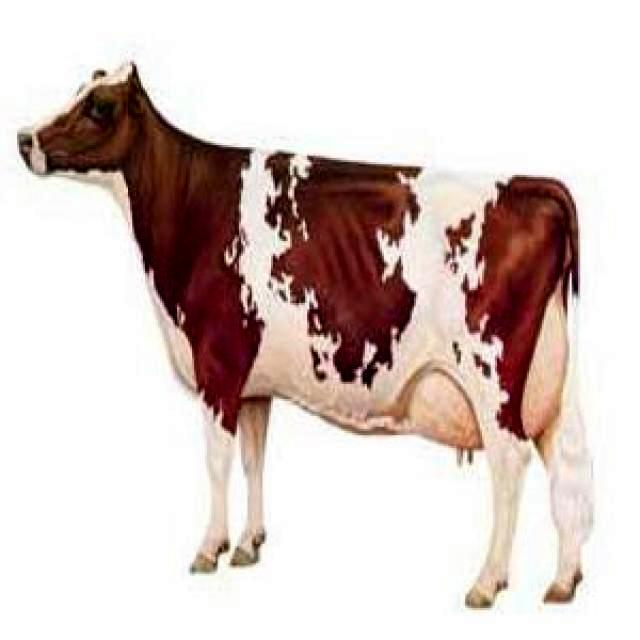COW: (20, 64, 590, 608)
